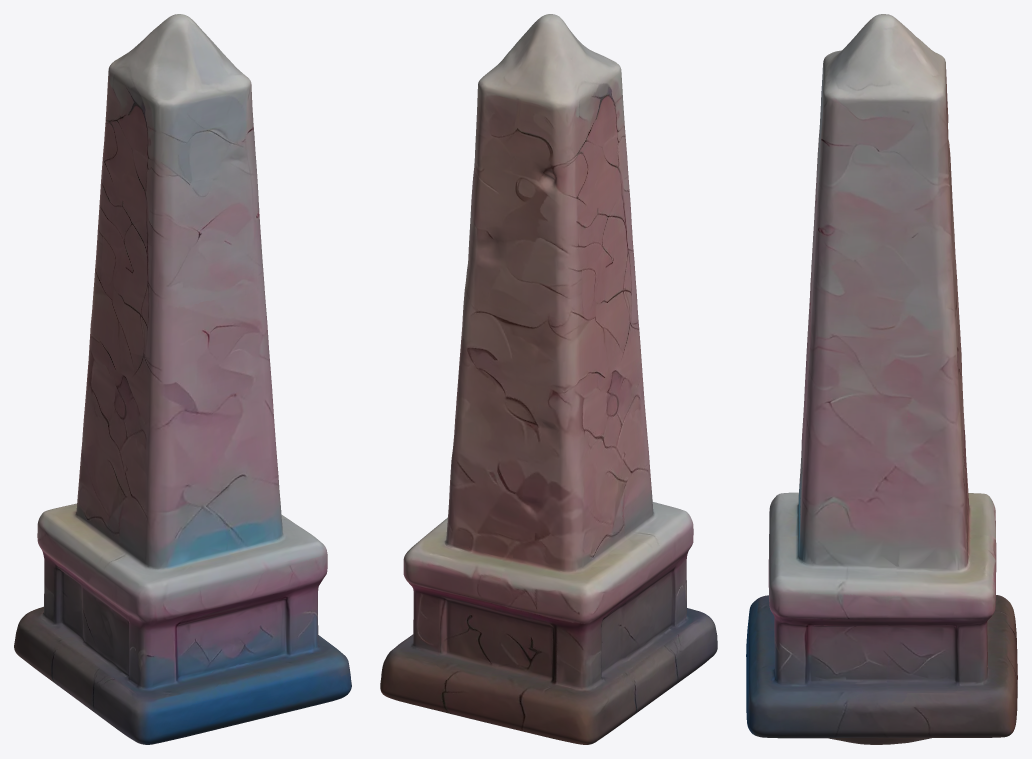
Rendered from obelisk.glb.
3 renders of one model, left to right at view 1: azimuth 30°, elevation 25°; view 2: azimuth 150°, elevation 25°; view 3: azimuth 270°, elevation 25°, orthographic.
Parts seen in each view (by area): view 1: tripo_node_276e2033-45ff-4761-9290-1ddc8821c3c0; view 2: tripo_node_276e2033-45ff-4761-9290-1ddc8821c3c0; view 3: tripo_node_276e2033-45ff-4761-9290-1ddc8821c3c0.
Part boxes in pixels (x1,y1,x2,y2): tripo_node_276e2033-45ff-4761-9290-1ddc8821c3c0: [14, 14, 351, 744]; tripo_node_276e2033-45ff-4761-9290-1ddc8821c3c0: [380, 14, 717, 744]; tripo_node_276e2033-45ff-4761-9290-1ddc8821c3c0: [746, 14, 1017, 744].
Bounding box in the file's own units: 0.3065 × 0.9462 × 0.3253.
Materials: 1 (1 with a texture image).
